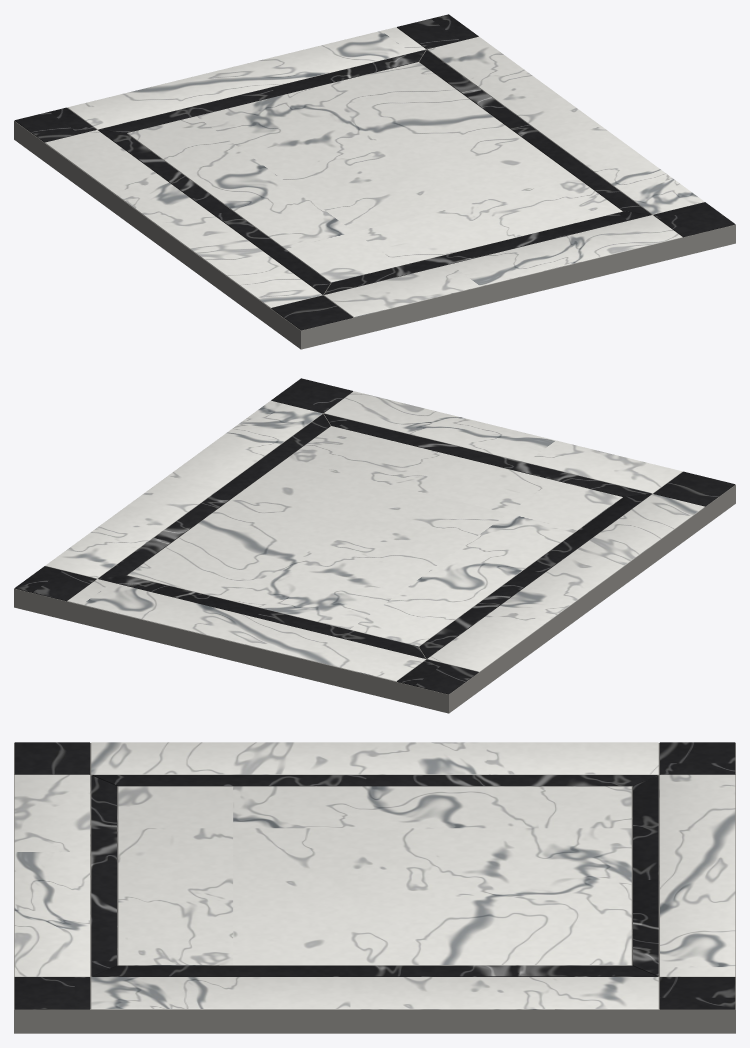
Rendered from floor_KA-DB002.glb.
The picture shows the model from 3 angles, top to bottom: view 1: azimuth 30°, elevation 25°; view 2: azimuth 150°, elevation 25°; view 3: azimuth 270°, elevation 25°; orthographic projection. The views are drawn at different scales.
Visible parts, largest first — view 1: Floor; view 2: Floor; view 3: Floor.
Part boxes in pixels (box(x1,y1,x2,y2)): Floor: box(14, 14, 735, 349); Floor: box(14, 378, 735, 713); Floor: box(14, 742, 735, 1033).
Bounding box in the file's own units: 1.4 × 0.06 × 1.6.
3 materials, 2 textured.
